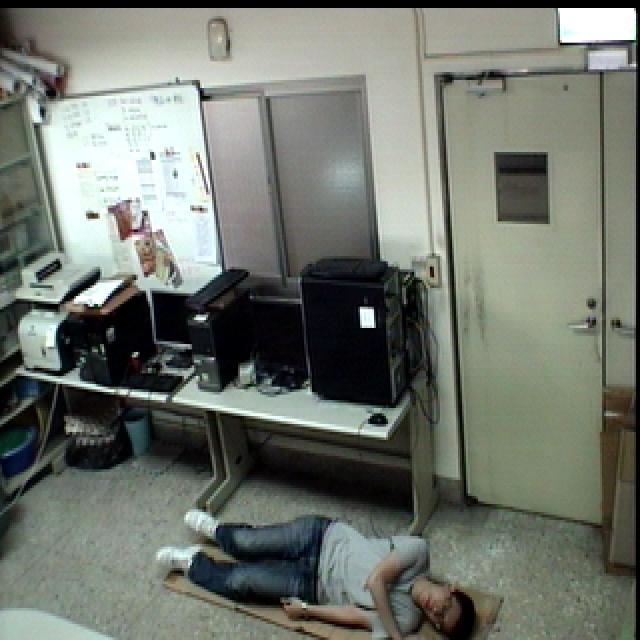lie: (144, 488, 484, 640)
